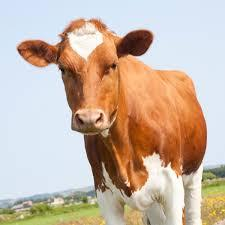cow: (17, 18, 209, 225)
